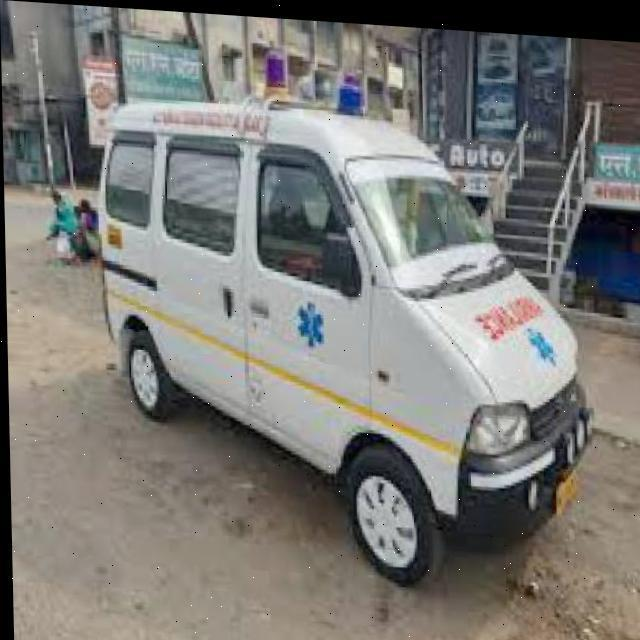Ambulance: (87, 79, 599, 594), (38, 184, 82, 270)
